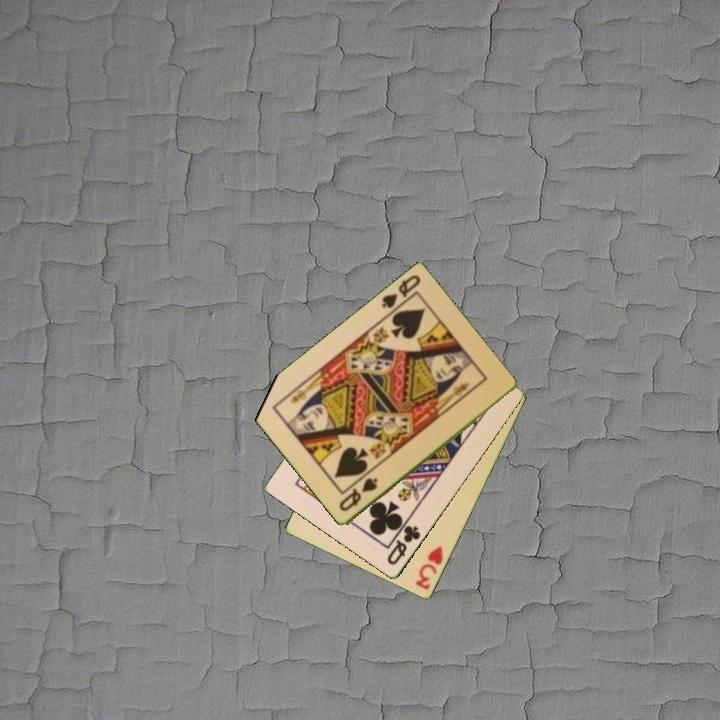3h: (412, 542, 446, 593)
Qc: (383, 522, 424, 569)
Qs: (378, 272, 423, 318), (335, 474, 381, 515)
